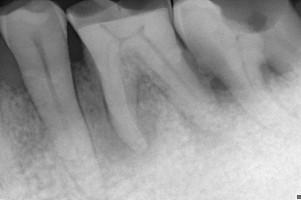Dental Caries: (86, 76, 163, 165)
Endo-Periodontal Lesion: (260, 59, 293, 91)
Furcation Involvement: (179, 108, 233, 153)
